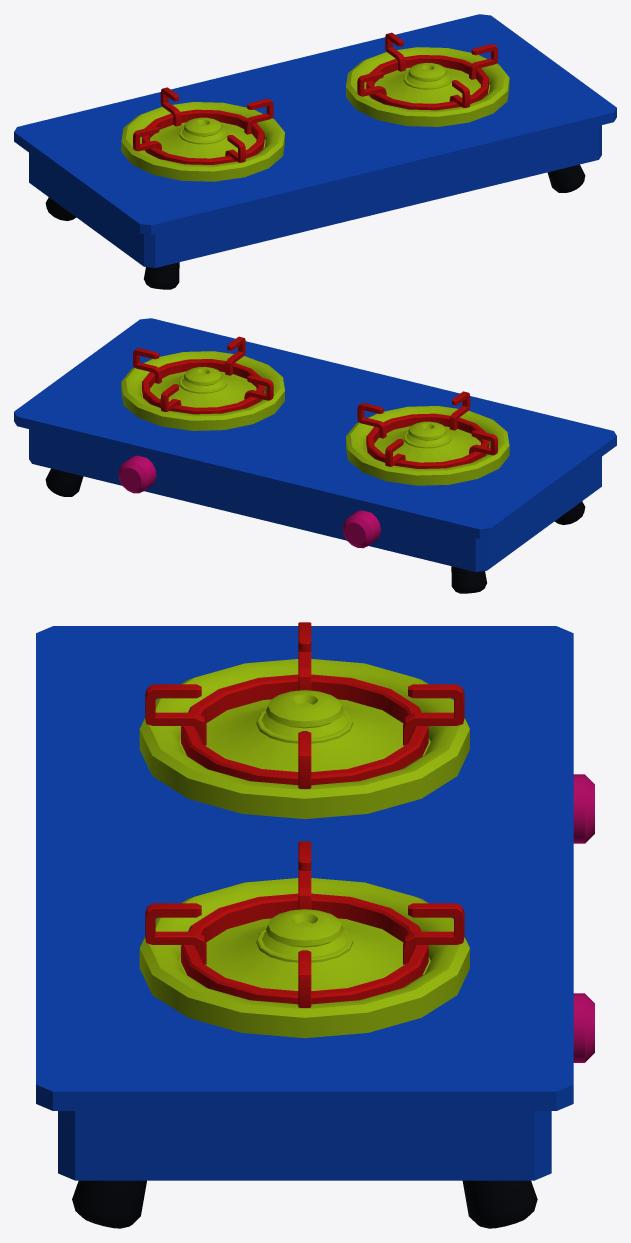
File: Gas stove.FBX
3 views of the same model, one above another, from view 1: azimuth 30°, elevation 25°; view 2: azimuth 150°, elevation 25°; view 3: azimuth 270°, elevation 25° (orthographic). The views are drawn at different scales.
Visible parts, largest first — view 1: Gas stove; view 2: Gas stove; view 3: Gas stove.
Boxes of the visible parts, x1,y1,x2,y2 form: Gas stove: (14,14,616,289); Gas stove: (14,318,616,593); Gas stove: (36,622,594,1228).
Bounding box in the file's own units: 996 × 505 × 232.
